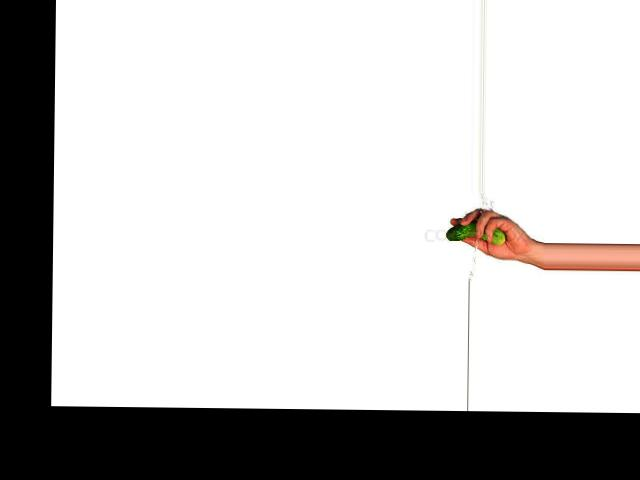cucumber: (446, 221, 506, 243)
